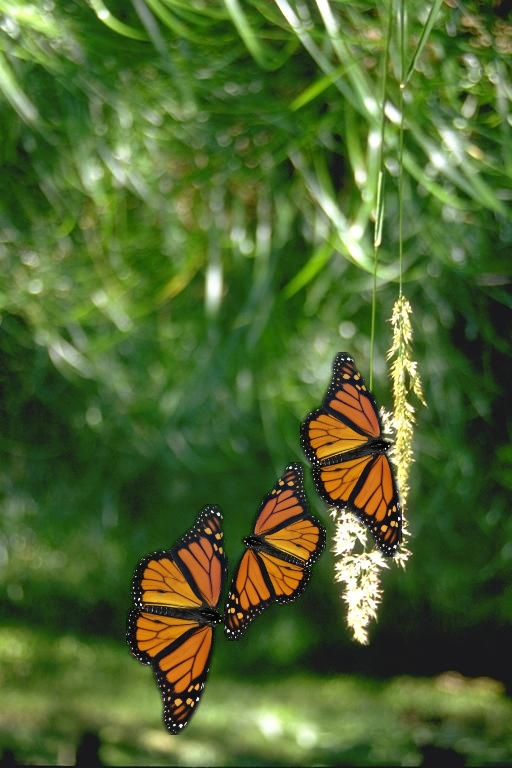danaus_plexippus: (126, 504, 228, 735), (300, 352, 402, 557), (224, 462, 326, 641)
